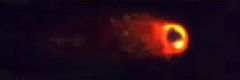keyhole: (164, 26, 183, 44)
